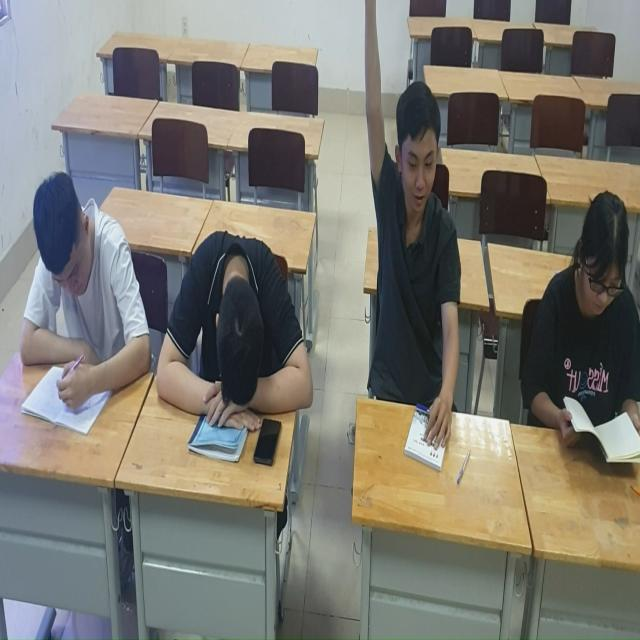raise_hand: (350, 1, 465, 447)
read: (514, 187, 640, 485), (19, 165, 158, 429)
sleep: (153, 212, 314, 459)
